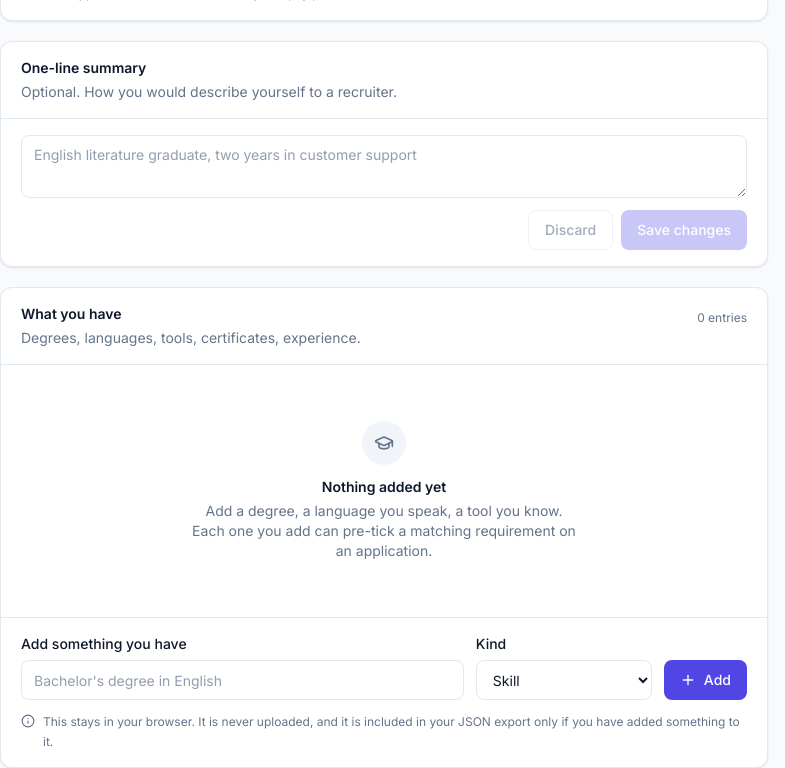
Test: ProfilePage › adds and removes a qualification
(page scrolled)
Expected: the text "Nothing added yet" is shown, left=322, top=478, right=446, bottom=495
In the field labelled "Add something you have": [242, 680] box left=21, top=660, right=464, bottom=700, type "TypeScript"
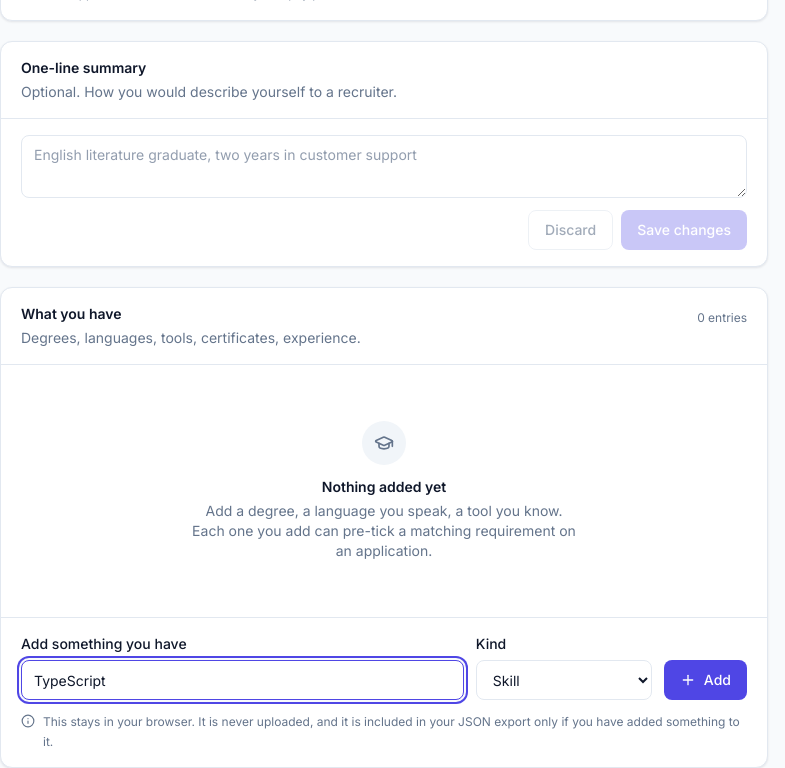
Click the button "Add": [705, 680] box left=664, top=660, right=747, bottom=700
(page scrolled)
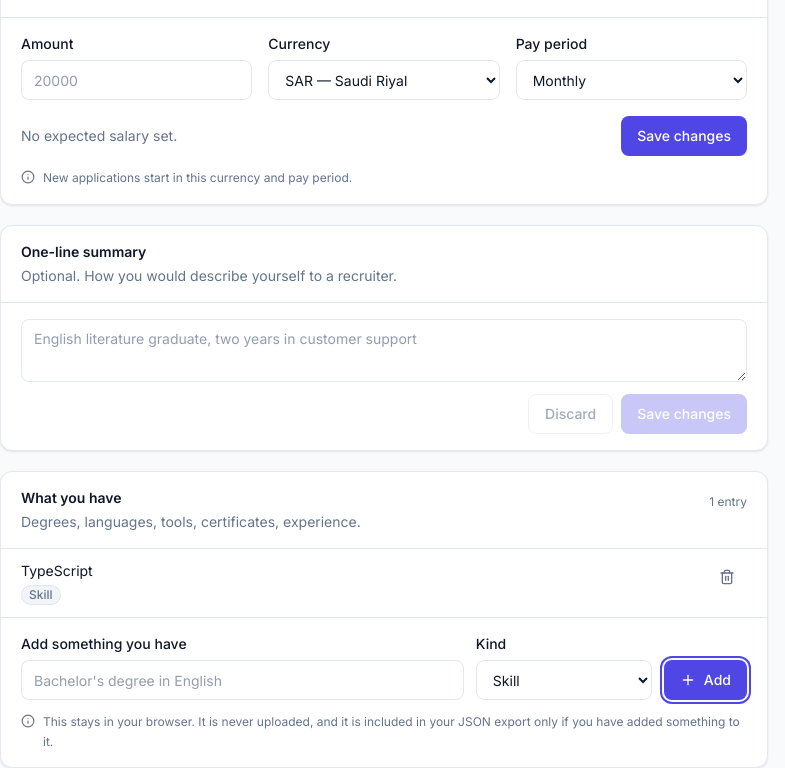
Expected: the text "TypeScript" is shown, left=21, top=561, right=93, bottom=581
Click the button named "remove from your background": [727, 577] box left=707, top=561, right=747, bottom=593
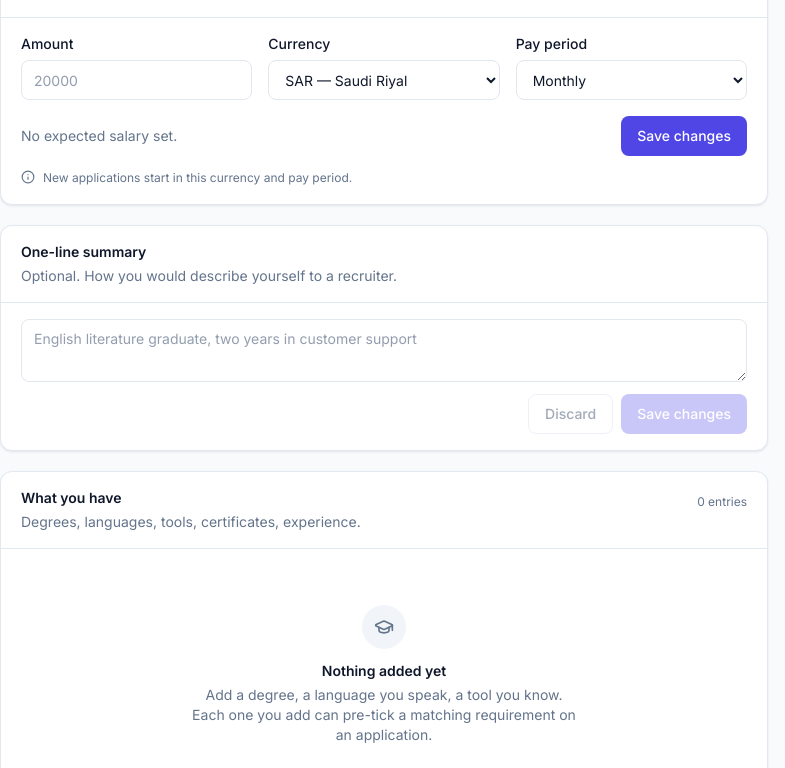
Expected: the text "TypeScript" is gone
